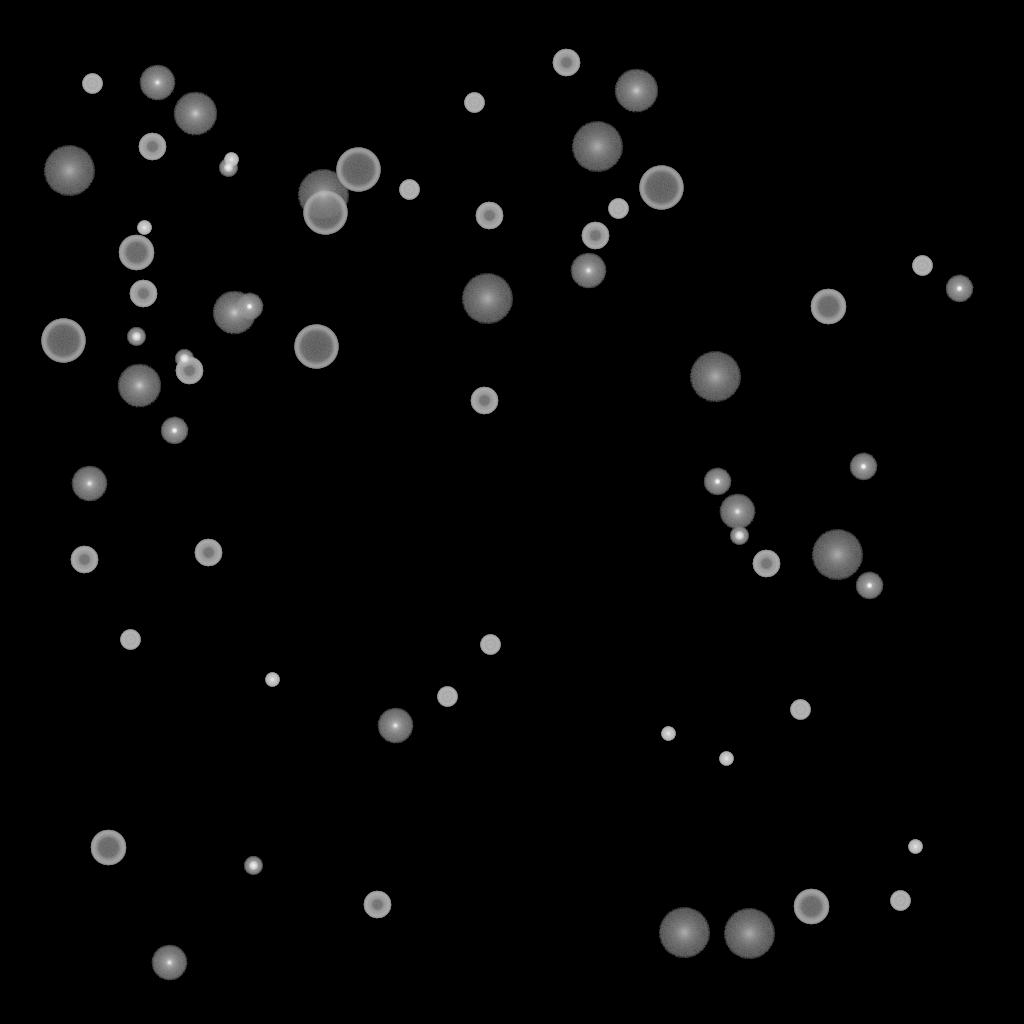depth:-10: (855, 572, 883, 600), (945, 275, 973, 303), (160, 417, 188, 445), (235, 293, 263, 321), (849, 453, 877, 481), (703, 468, 731, 496)
depth:-20: (127, 328, 145, 346), (244, 857, 262, 875), (219, 159, 237, 177), (730, 527, 748, 545), (175, 350, 193, 368)
depth:-30: (265, 673, 279, 687), (224, 153, 238, 167), (908, 840, 922, 854), (661, 727, 675, 741), (719, 752, 733, 766), (137, 221, 151, 235)
depth:-40: (790, 700, 810, 720), (608, 199, 628, 219), (437, 687, 457, 707), (82, 74, 102, 94), (120, 630, 140, 650), (464, 93, 484, 113), (480, 635, 500, 655), (890, 891, 910, 911), (912, 256, 932, 276), (399, 180, 419, 200)
depth:-50: (175, 357, 203, 385), (752, 550, 780, 578), (138, 133, 166, 161), (363, 891, 391, 919), (129, 280, 157, 308), (70, 546, 98, 574), (552, 49, 580, 77), (475, 202, 503, 230), (470, 387, 498, 415), (194, 539, 222, 567), (581, 222, 609, 250)
depth:-60: (118, 235, 154, 271), (810, 289, 846, 325), (793, 889, 829, 925), (90, 830, 126, 866)
depth:-70: (294, 325, 338, 369), (639, 166, 683, 210), (41, 319, 85, 363), (303, 191, 347, 235), (336, 148, 380, 192)
depth:0: (719, 494, 755, 530), (377, 708, 413, 744), (71, 466, 107, 502), (570, 253, 606, 289), (151, 945, 187, 981), (139, 65, 175, 101)
depth:10: (212, 291, 256, 335), (614, 69, 658, 113), (173, 92, 217, 136), (117, 364, 161, 408)
depth:20: (723, 909, 775, 959), (571, 122, 623, 172), (461, 274, 513, 324), (689, 352, 741, 402), (811, 530, 863, 580), (43, 146, 95, 196), (297, 170, 349, 220), (658, 908, 710, 958)
